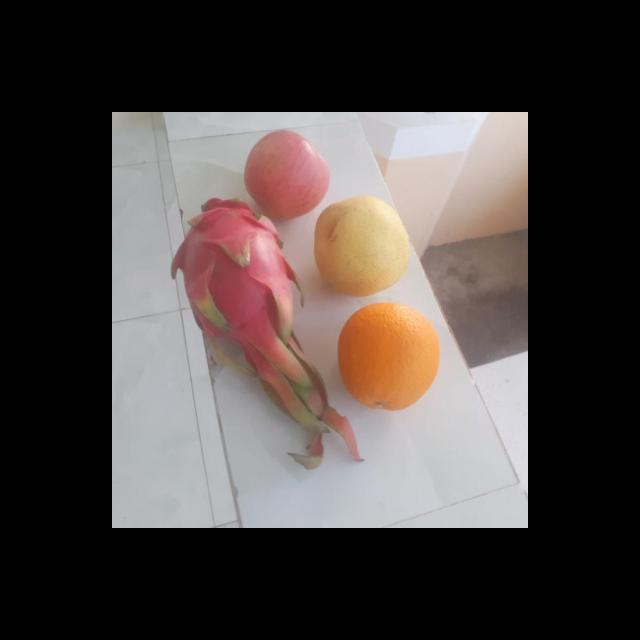apple: (240, 125, 334, 218)
orange: (332, 299, 442, 411)
pear: (309, 197, 411, 295)
pitaya: (166, 196, 300, 361)
